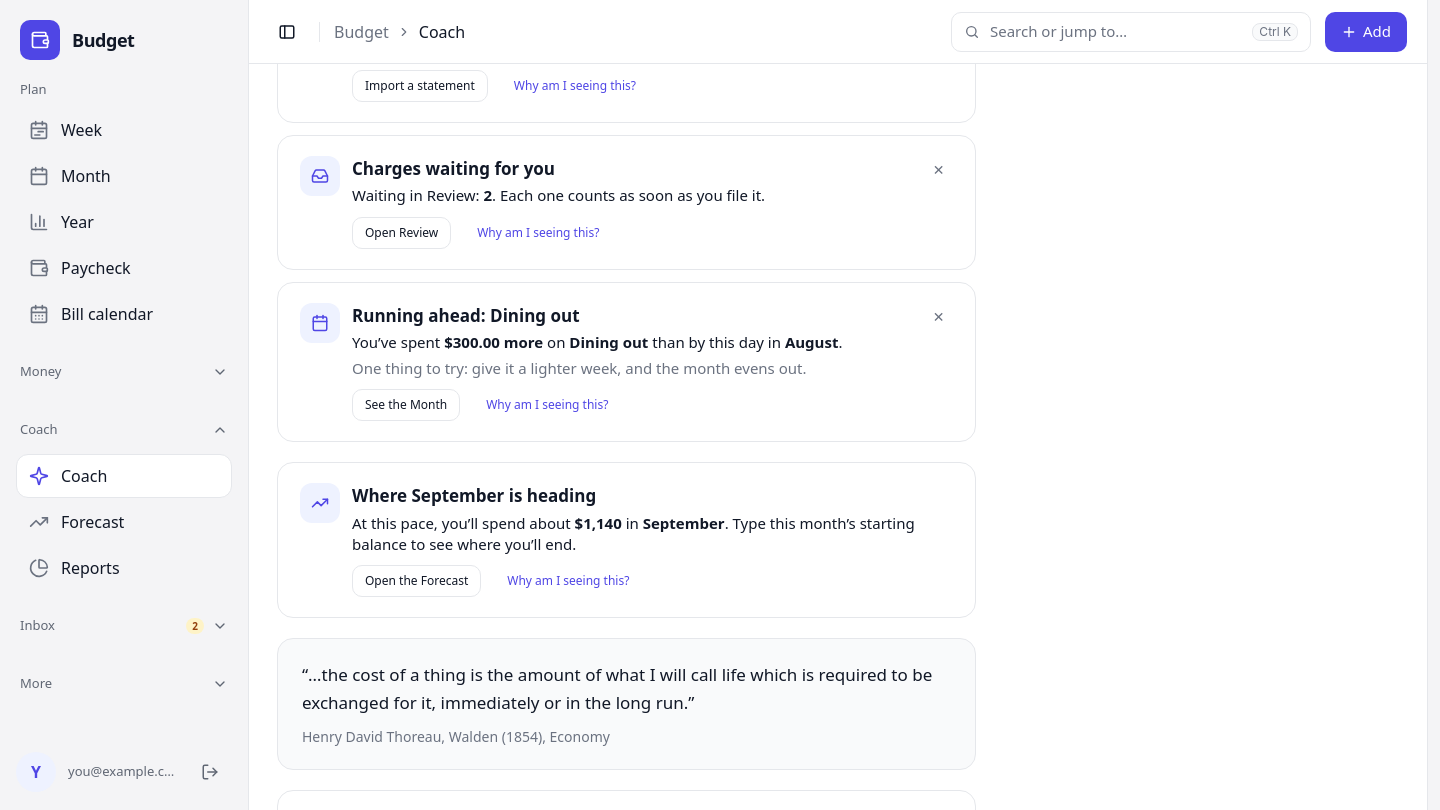
the Coach, in the app’s own words › lists the engine’s figures behind a card in “Why am I seeing this?”
(page scrolled)
Click the button "Why am I seeing this?" below "than by this day in" at point(547, 405), box x1=474 y1=389 x2=620 y2=421
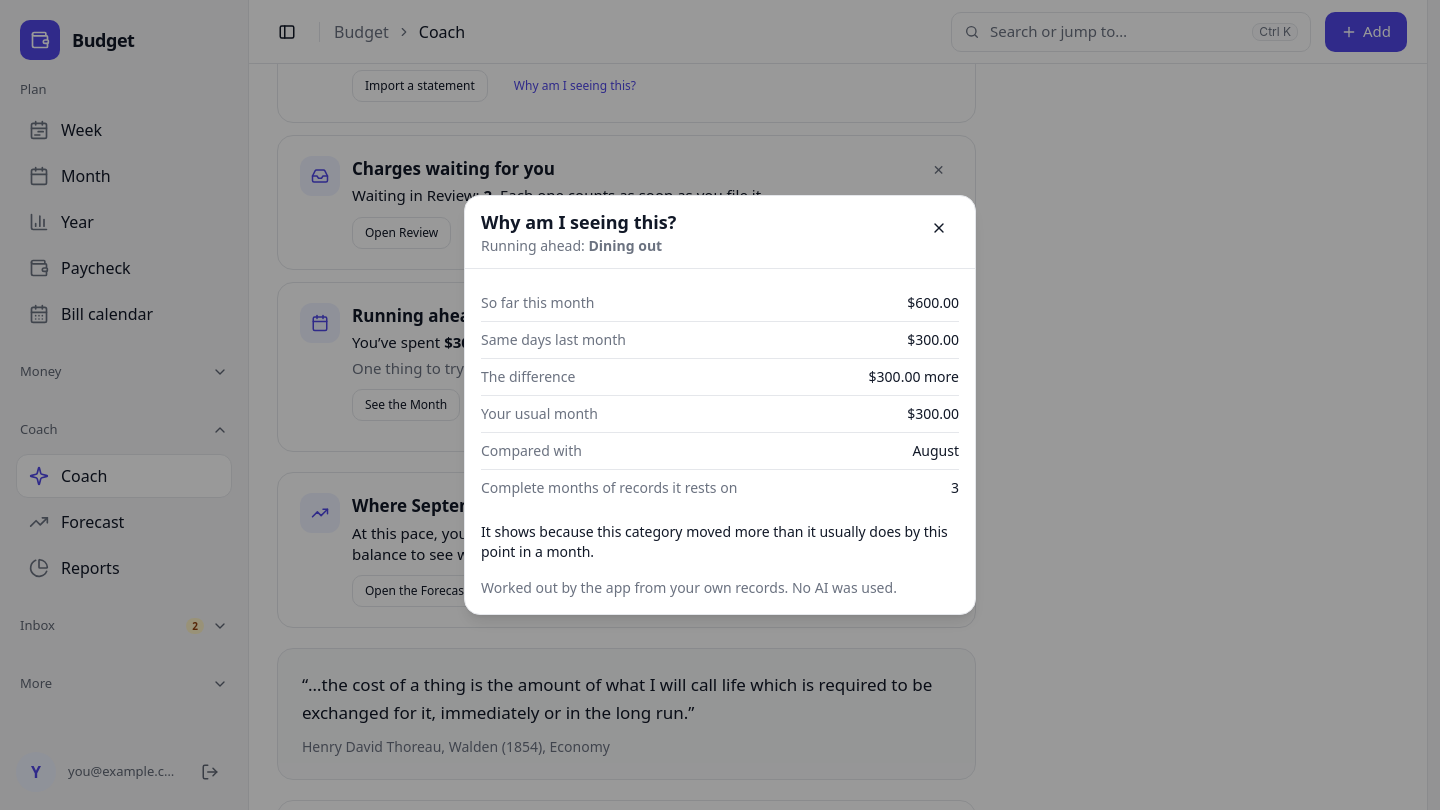
Check: the text "Worked out by the app from your own records. No AI was used." is shown, box x1=481 y1=578 x2=959 y2=598
Click the button named "Close" at point(939, 228), box x1=919 y1=208 x2=959 y2=248
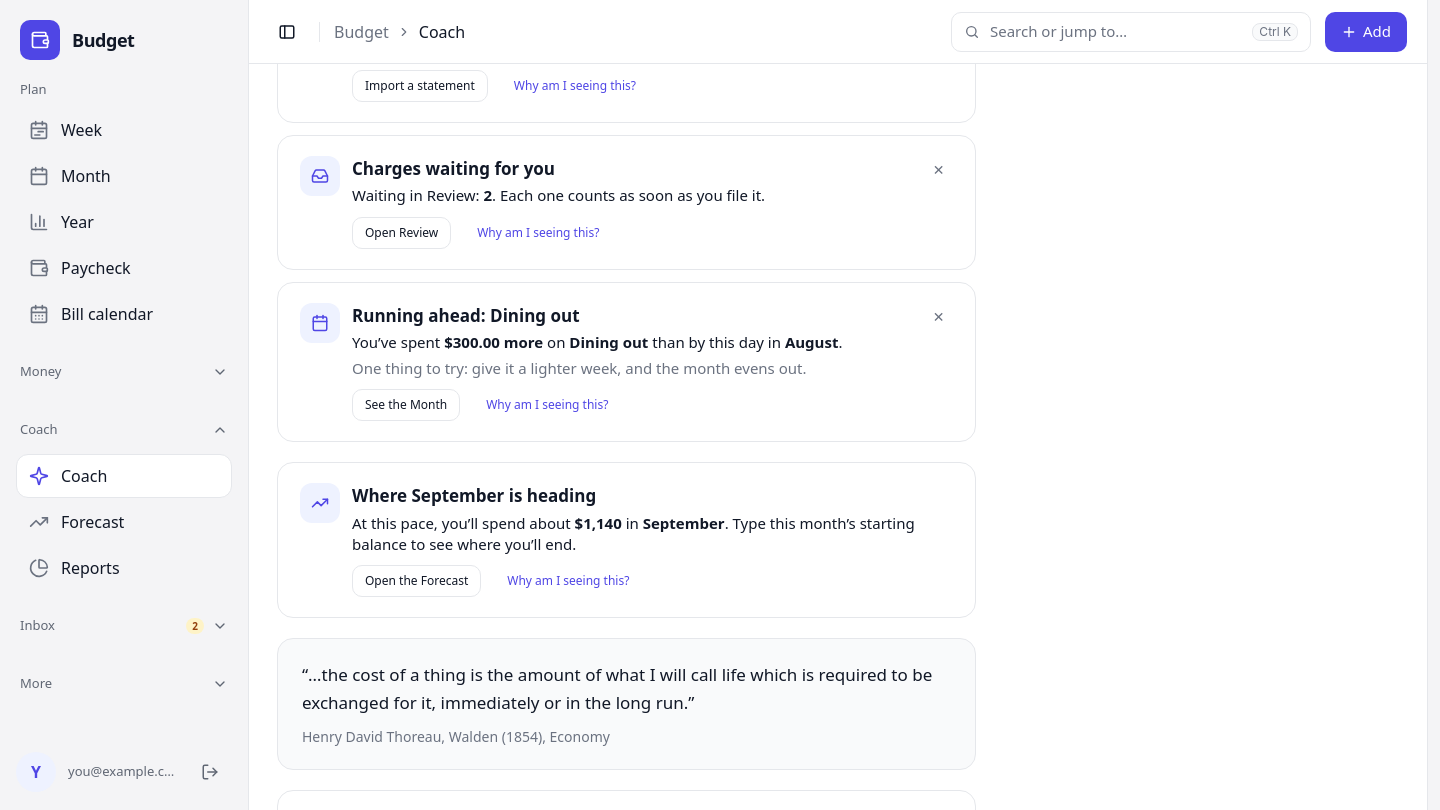
Check: the dialog is gone
